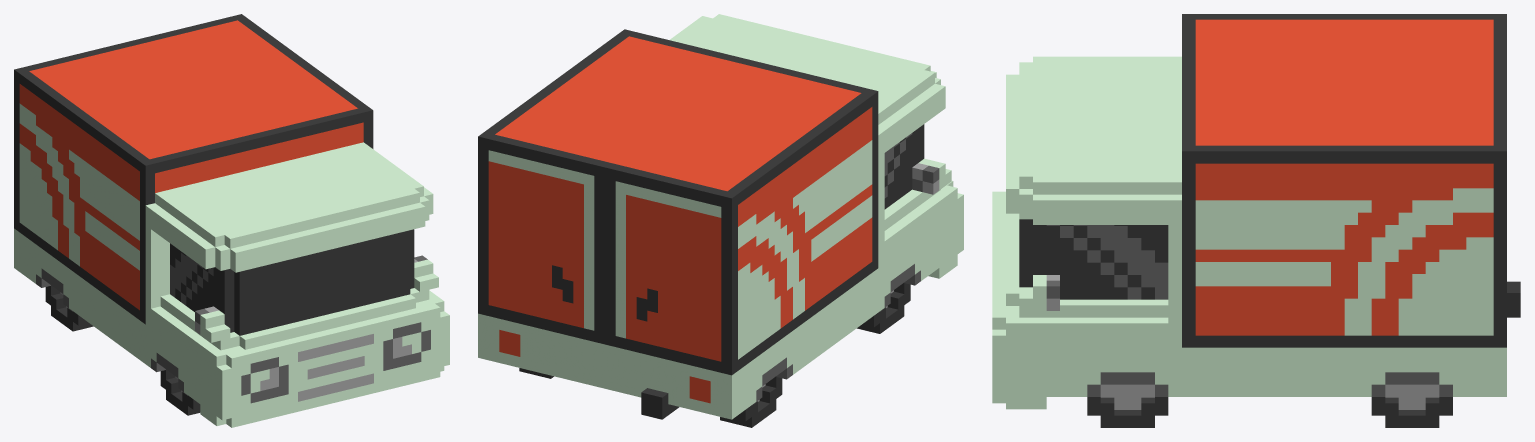
File: Truck.fbx
The picture shows the model from 3 angles, left to right: view 1: azimuth 30°, elevation 25°; view 2: azimuth 150°, elevation 25°; view 3: azimuth 270°, elevation 25°; orthographic projection. The views are drawn at different scales.
Visible parts, largest first — view 1: Truck; view 2: Truck; view 3: Truck.
Boxes of the visible parts, <box> form: Truck: <box>14,14,449,427</box>; Truck: <box>478,14,963,427</box>; Truck: <box>992,14,1520,427</box>.
Bounding box in the file's own units: 240 × 230 × 390.
Materials: 1 (1 with a texture image).
